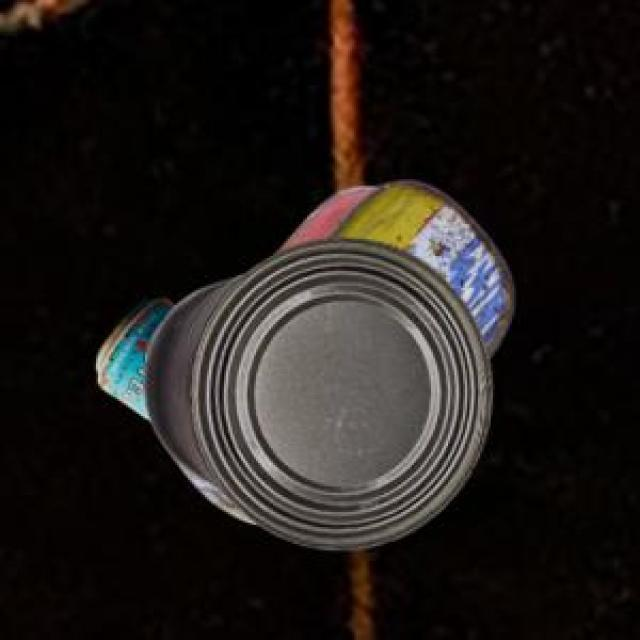Can: (189, 178, 511, 522), (142, 236, 490, 547), (93, 295, 172, 417)
